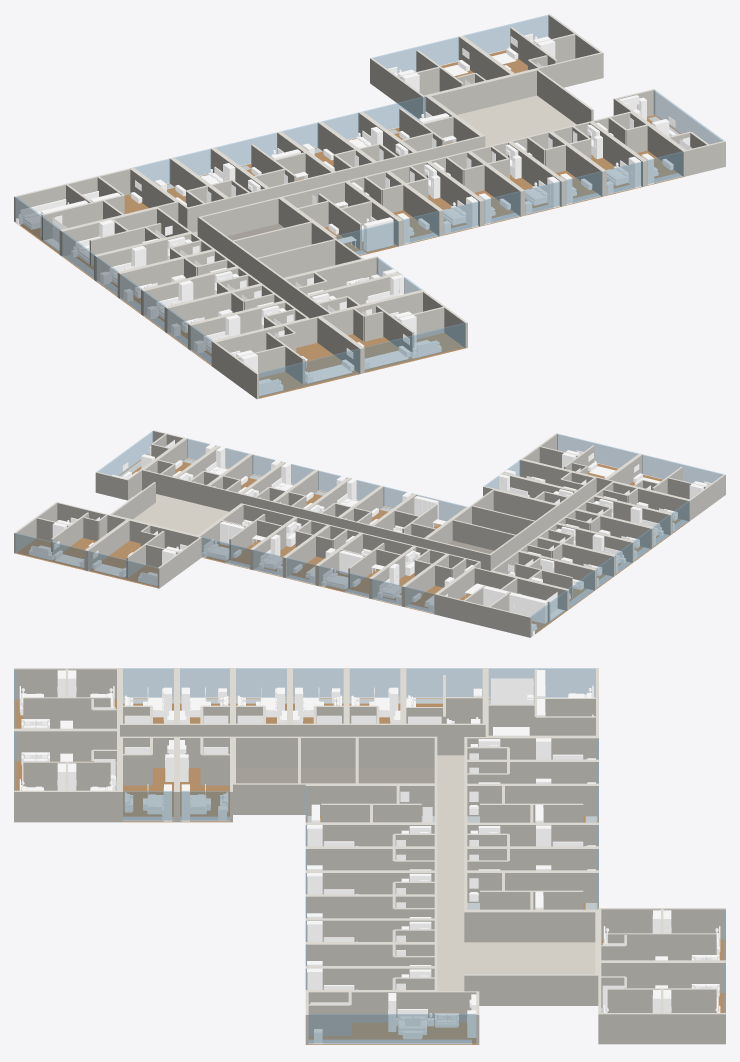
The model's file is sun-saphia-floor.glb.
The picture shows the model from 3 angles, top to bottom: view 1: azimuth 30°, elevation 25°; view 2: azimuth 150°, elevation 25°; view 3: azimuth 270°, elevation 25°; orthographic projection. The views are drawn at different scales.
Visible parts, largest first — view 1: sun-saphia_floor, Furniture; view 2: sun-saphia_floor, Furniture; view 3: sun-saphia_floor, Furniture.
Part boxes in pixels (x1=…): sun-saphia_floor: x1=14, y1=14, x2=725, y2=399; Furniture: x1=16, y1=33, x2=692, y2=396; sun-saphia_floor: x1=14, y1=430, x2=725, y2=637; Furniture: x1=29, y1=440, x2=711, y2=636; sun-saphia_floor: x1=14, y1=668, x2=725, y2=1044; Furniture: x1=19, y1=670, x2=720, y2=1043.
Size of the model in its own units: 55.46 by 2.52 by 48.08.
